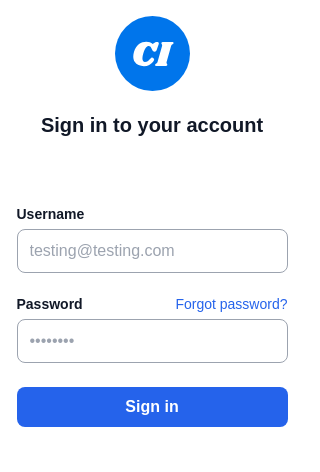
Test: SignIn Page › shows validation error for invalid email format
This screenshot has width=320, height=472.
Type "invalid-email" into the field labelled "Username" at (152, 251), box [16,229,288,273]
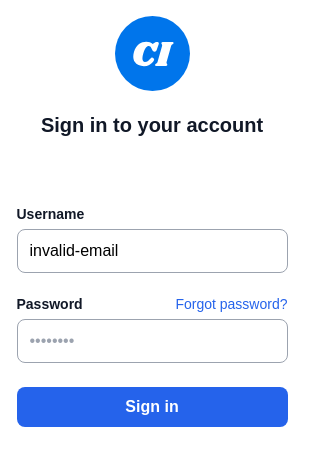
Click the button "Sign in" at (152, 407), box [16,387,288,427]
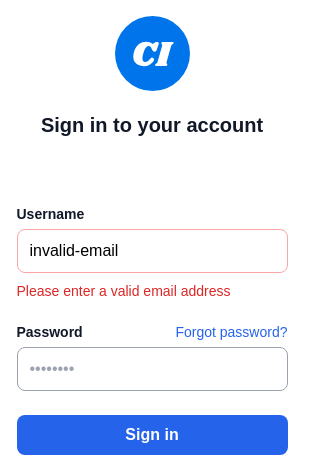
Result: the text "Please enter a valid email address" is shown at [16,283,230,299]
